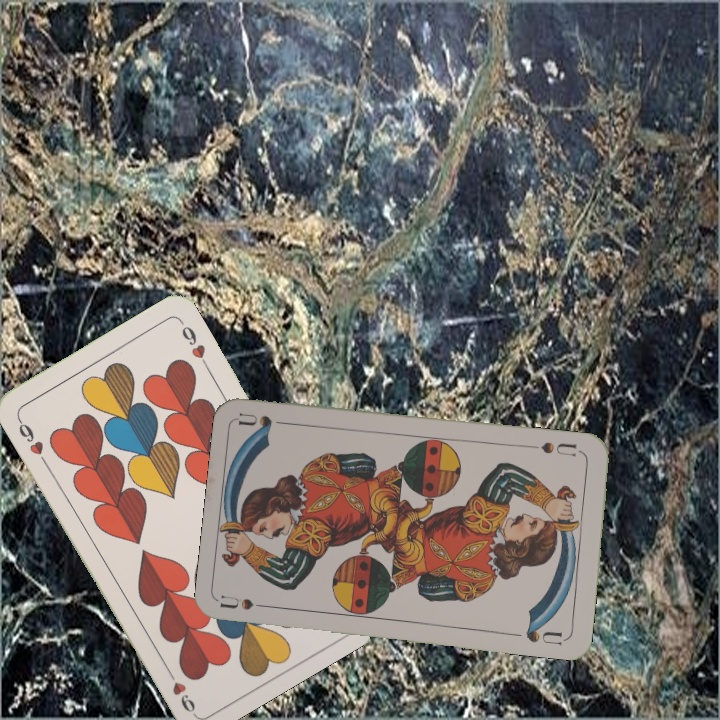H9: (13, 413, 46, 458)
SU: (218, 591, 278, 613), (527, 437, 586, 459)
